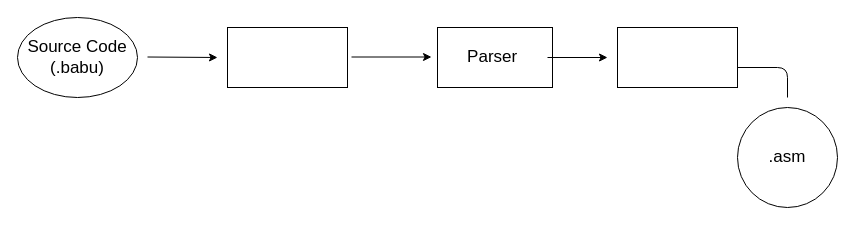
Image size: 855x225. Some labels were removed from this diagram. The shapes that lost their labels are listed below. From the top down, each one's centre as x and y in pixels, then its label:
the point at 287,57: Tokenizer
the point at 677,57: code Gen
